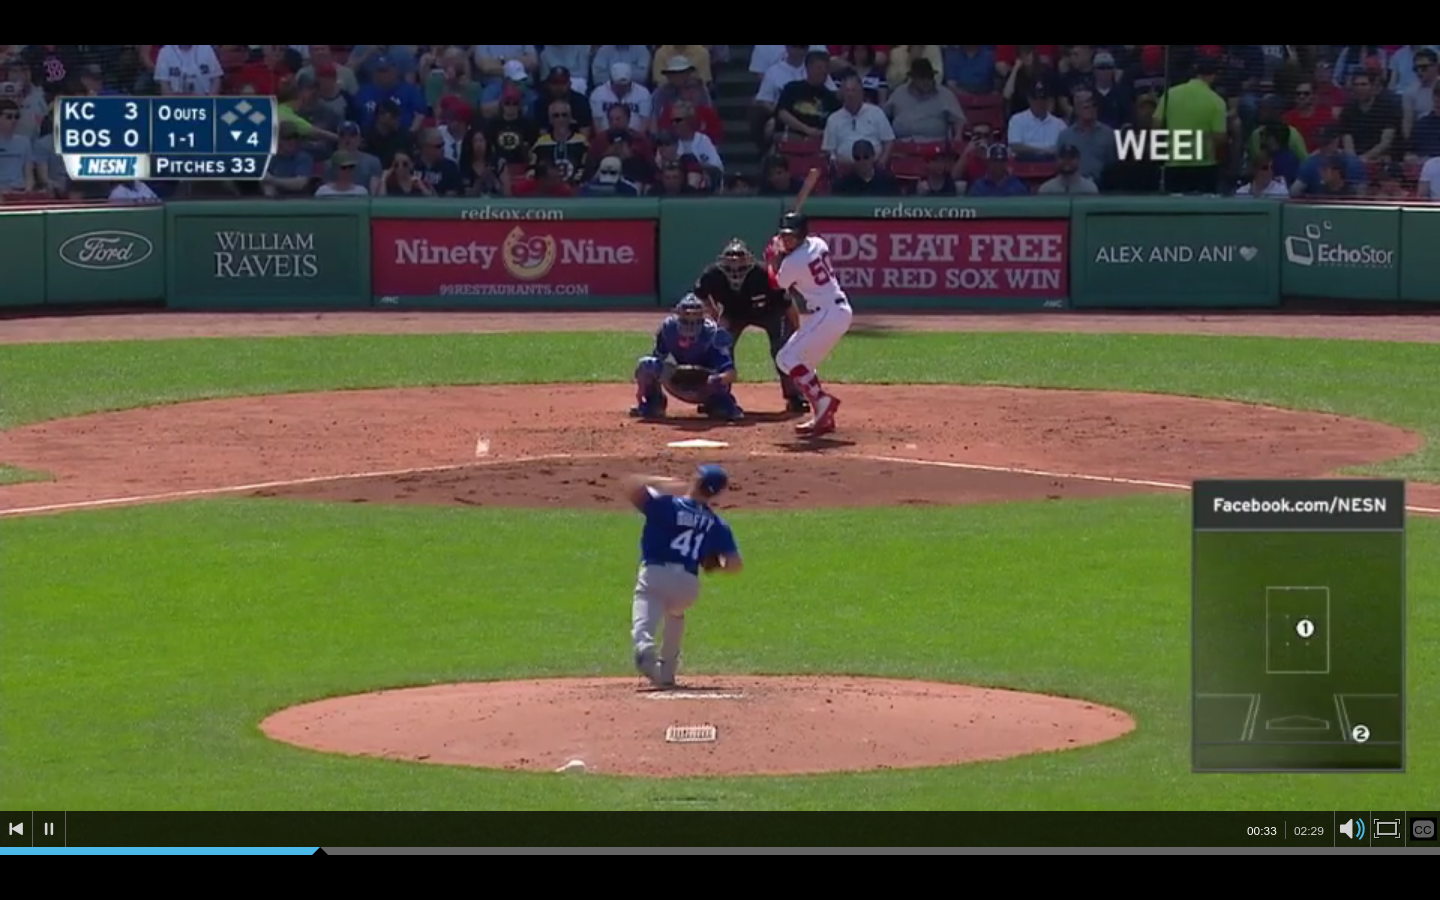baseball bat: (792, 163, 818, 216)
baseball player: (613, 460, 741, 700), (765, 214, 859, 448), (622, 291, 744, 423)
referee: (698, 242, 804, 422)
